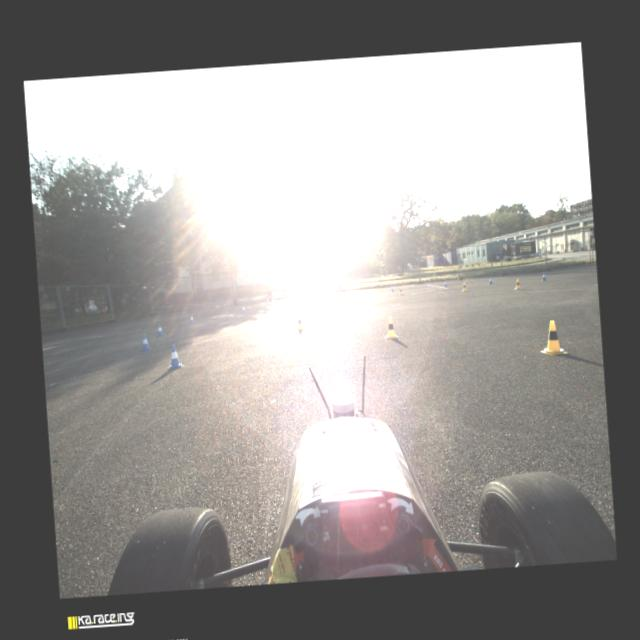blue_cone: (166, 344, 183, 368), (140, 333, 150, 350), (156, 324, 164, 335), (540, 272, 546, 280), (189, 314, 194, 322), (488, 276, 493, 284), (241, 305, 246, 313), (443, 280, 447, 286), (337, 290, 340, 298), (291, 297, 294, 304), (391, 285, 394, 291)
yellow_cone: (538, 320, 568, 355), (383, 316, 398, 339), (296, 314, 303, 330), (514, 278, 522, 289), (346, 292, 352, 302), (461, 282, 466, 291), (398, 286, 403, 294), (302, 299, 306, 308)
